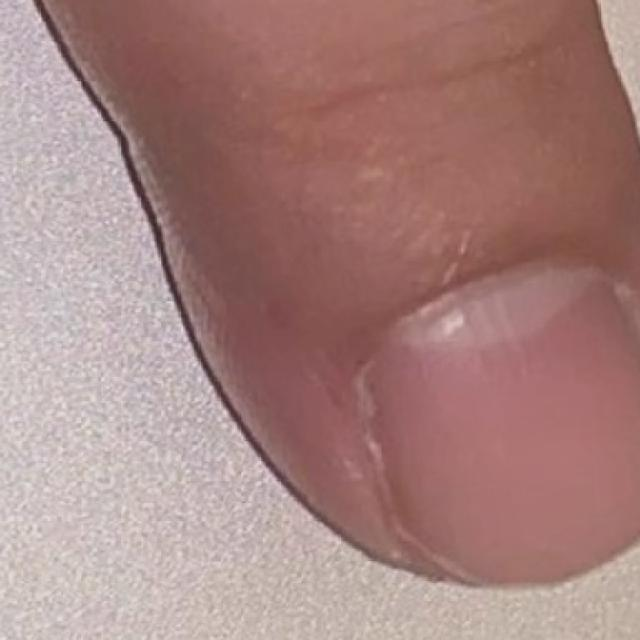Nail: (369, 259, 639, 590)
